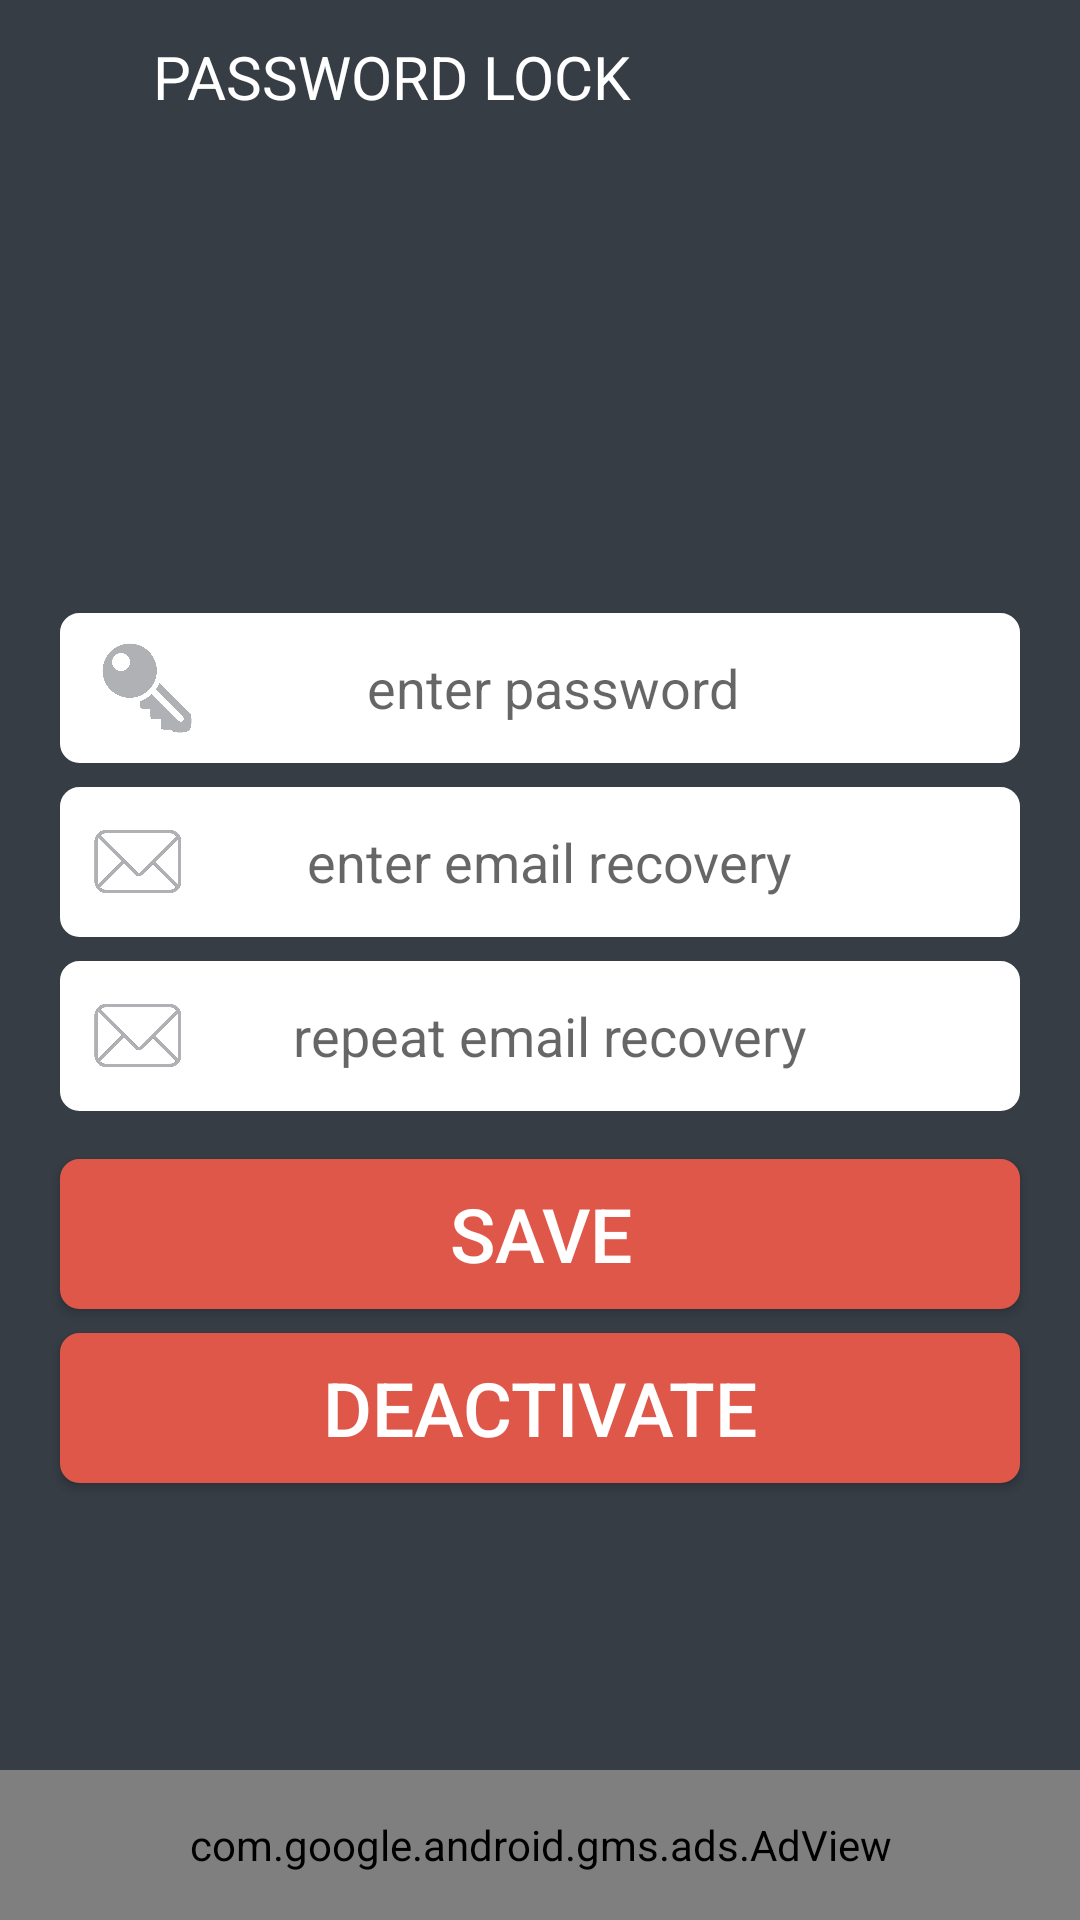

Named icons in this screenshot (1080px×1920px) and their bounding boxes, (x1, y1, x2, y2):
key: (103, 644, 192, 733)
